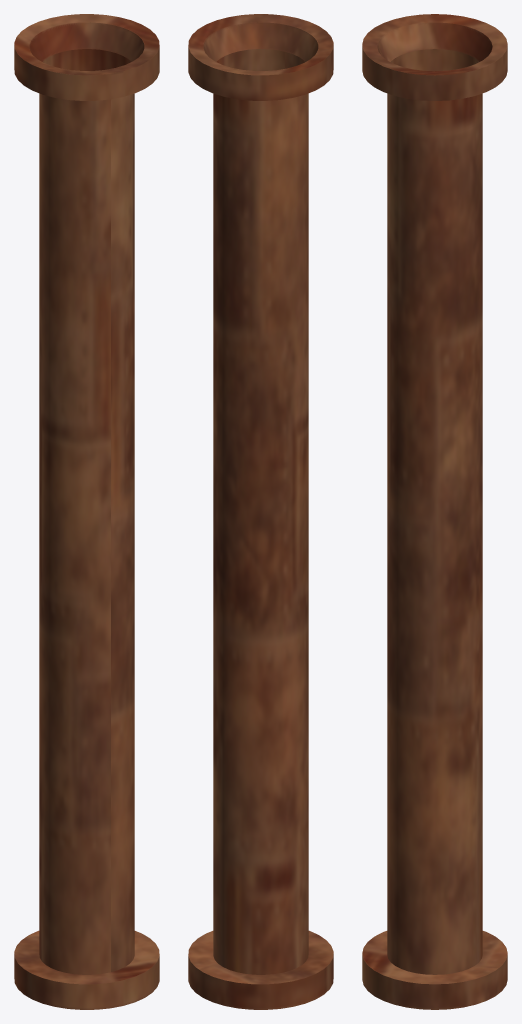
The model's file is Tuberia 1.fbx.
3 renders of one model, left to right at view 1: azimuth 30°, elevation 25°; view 2: azimuth 150°, elevation 25°; view 3: azimuth 270°, elevation 25°, orthographic.
Parts seen in each view (by area): view 1: Cylinder.004; view 2: Cylinder.004; view 3: Cylinder.004.
Part boxes in pixels (x1=…): Cylinder.004: x1=14, y1=14, x2=159, y2=1009; Cylinder.004: x1=188, y1=14, x2=333, y2=1009; Cylinder.004: x1=362, y1=14, x2=507, y2=1009.
Size of the model in its own units: 13.41 by 94.95 by 13.41.
